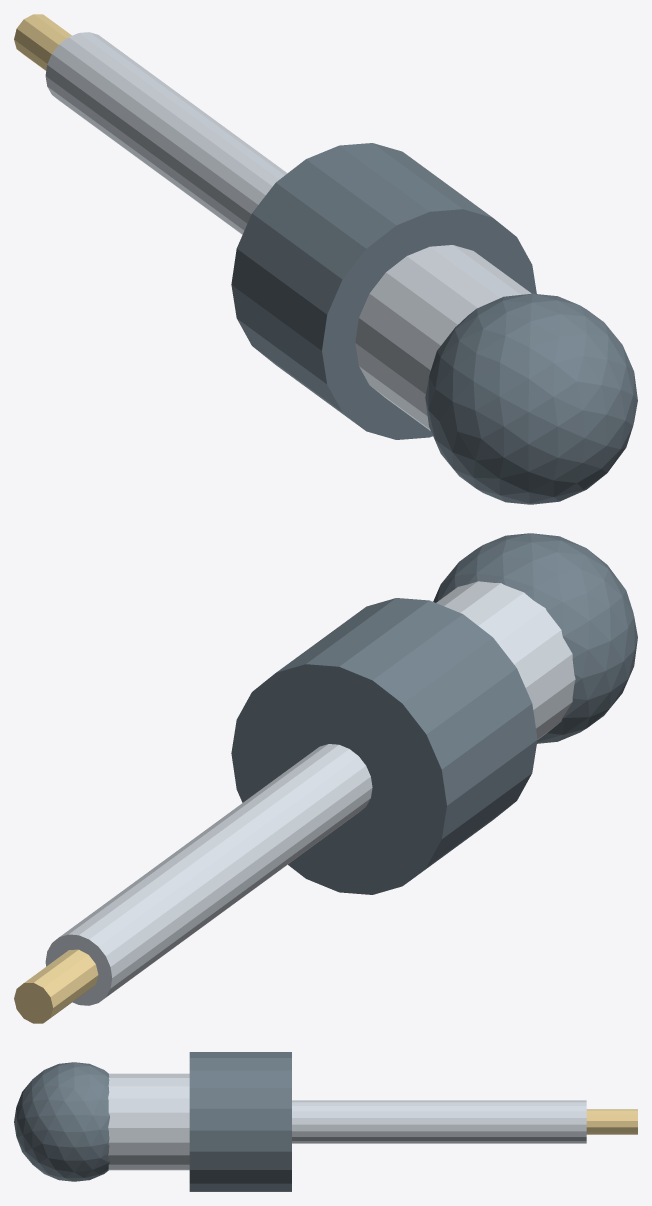
The model's file is servicer_tool_screwdriver.glb.
3 renders of one model, top to bottom at view 1: azimuth 30°, elevation 25°; view 2: azimuth 150°, elevation 25°; view 3: azimuth 270°, elevation 25°, orthographic. The views are drawn at different scales.
Visible parts, largest first — view 1: tool drive motor, screwdriver swivel, screwdriver shaft, screwdriver mounting spindle, screwdriver torque bit; view 2: tool drive motor, screwdriver shaft, screwdriver swivel, screwdriver mounting spindle, screwdriver torque bit; view 3: tool drive motor, screwdriver shaft, screwdriver swivel, screwdriver mounting spindle, screwdriver torque bit.
Boxes of the visible parts, bbox=[...] form: tool drive motor: bbox=[231, 143, 536, 439]; screwdriver swivel: bbox=[425, 293, 637, 504]; screwdriver shaft: bbox=[45, 32, 287, 234]; screwdriver mounting spindle: bbox=[355, 245, 531, 430]; screwdriver torque bit: bbox=[14, 14, 71, 70]; tool drive motor: bbox=[231, 598, 537, 894]; screwdriver shaft: bbox=[45, 744, 372, 1005]; screwdriver swivel: bbox=[433, 533, 637, 743]; screwdriver mounting spindle: bbox=[436, 581, 575, 739]; screwdriver torque bit: bbox=[14, 949, 98, 1023]; tool drive motor: bbox=[189, 1052, 291, 1191]; screwdriver shaft: bbox=[292, 1100, 586, 1143]; screwdriver swivel: bbox=[14, 1062, 109, 1181]; screwdriver mounting spindle: bbox=[108, 1073, 189, 1170]; screwdriver torque bit: bbox=[586, 1109, 637, 1134].
Bounding box in the file's own units: 0.11 × 0.11 × 0.487.
